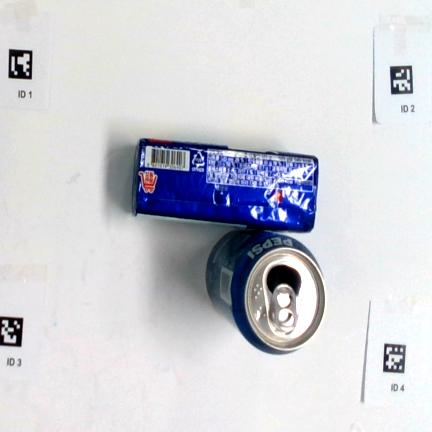can_pepsi: (206, 229, 326, 354)
cracker_ace: (132, 138, 318, 233)
